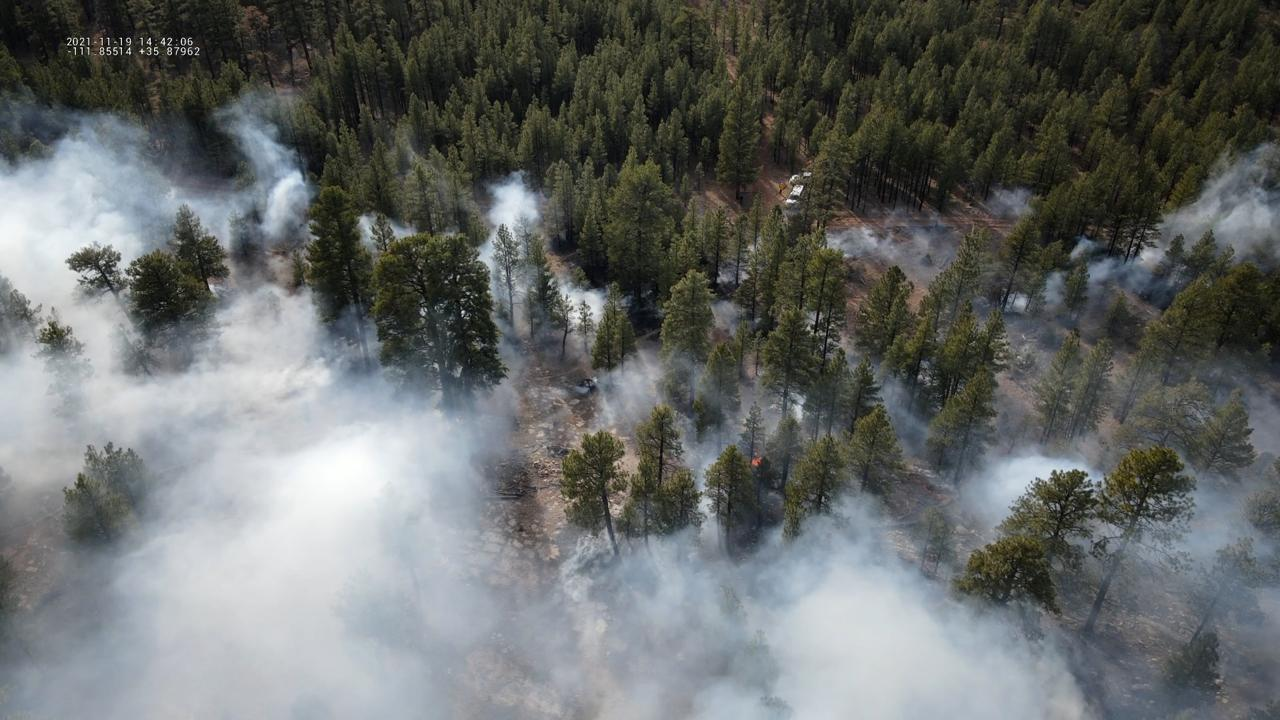fire: (750, 456, 766, 466)
smoke: (0, 94, 1280, 720), (1006, 144, 1280, 309), (821, 206, 962, 285), (354, 209, 420, 257), (984, 185, 1033, 217)
